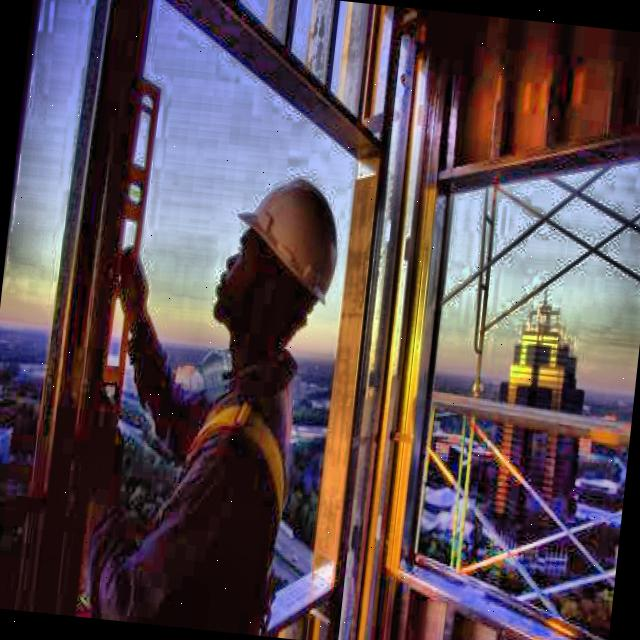helmet: (208, 143, 360, 387)
